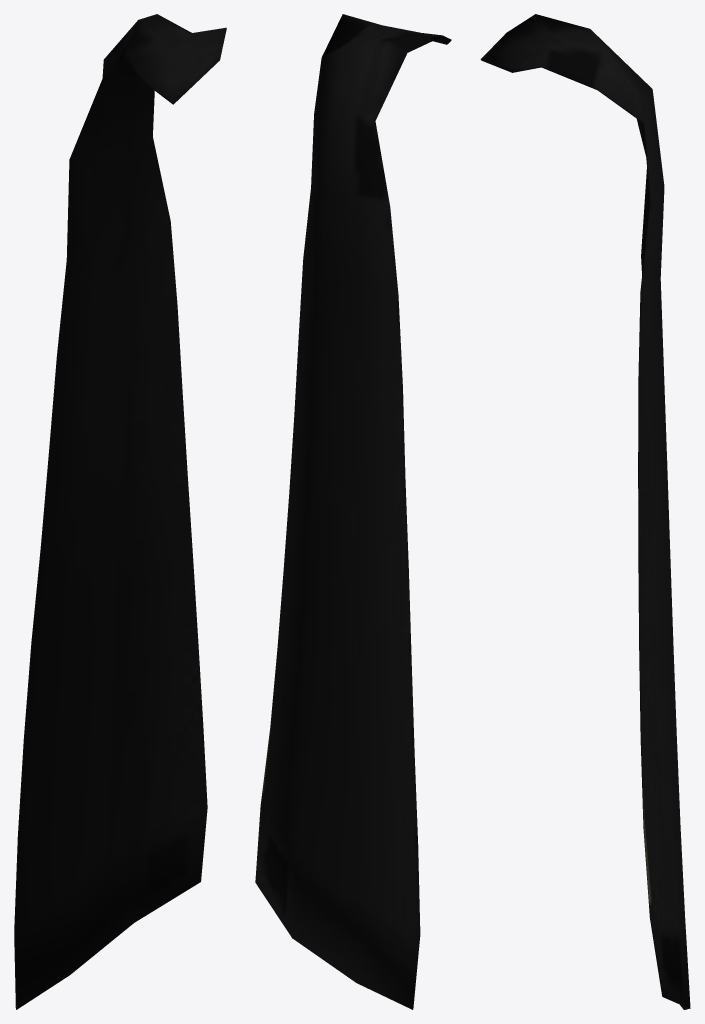
File: sideDrape.fbx
3 renders of one model, left to right at view 1: azimuth 30°, elevation 25°; view 2: azimuth 150°, elevation 25°; view 3: azimuth 270°, elevation 25°, orthographic. The views are drawn at different scales.
Parts seen in each view (by area): view 1: polySurface8; view 2: polySurface8; view 3: polySurface8.
Part boxes in pixels (x1,y1,x2,y2): polySurface8: (14, 14, 226, 1009); polySurface8: (255, 14, 451, 1009); polySurface8: (480, 14, 690, 1009).
Bounding box in the file's own units: 1.51 × 7.93 × 1.5.
